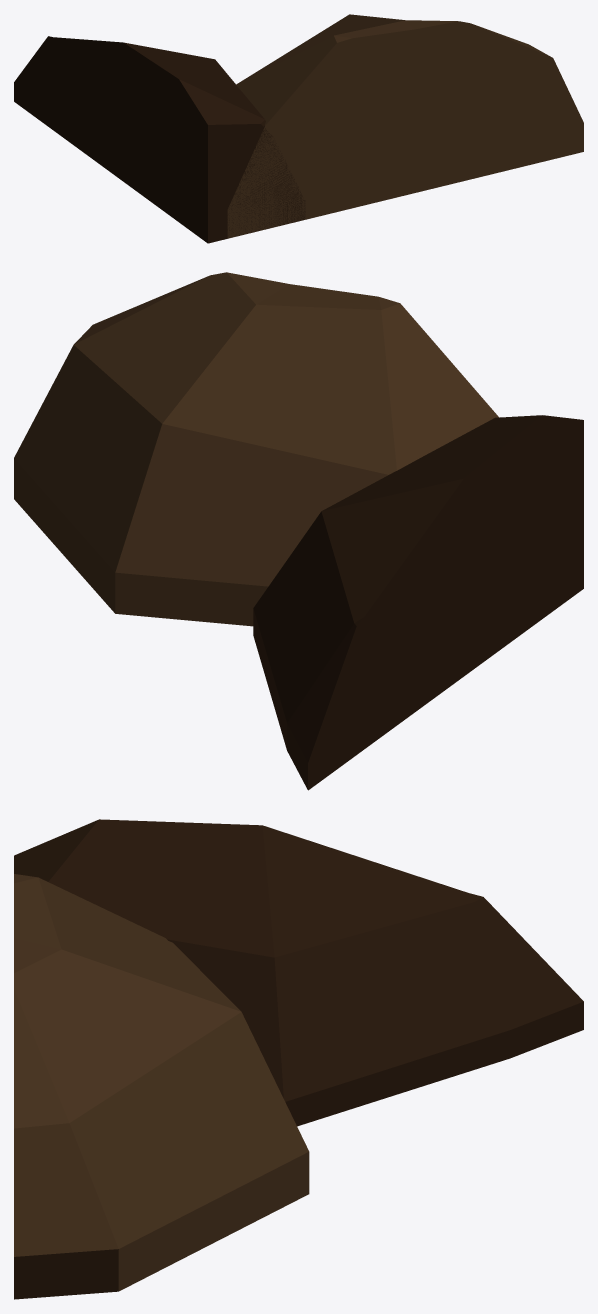
File: newshr-165.glb
The picture shows the model from 3 angles, top to bottom: view 1: azimuth 30°, elevation 25°; view 2: azimuth 150°, elevation 25°; view 3: azimuth 270°, elevation 25°; orthographic projection. The views are drawn at different scales.
Visible parts, largest first — view 1: newshr-165; view 2: newshr-165; view 3: newshr-165.
Part boxes in pixels (x1=…): newshr-165: x1=14, y1=14, x2=583, y2=243; newshr-165: x1=14, y1=272, x2=583, y2=790; newshr-165: x1=14, y1=819, x2=583, y2=1299.
Bounding box in the file's own units: 0.8964 × 0.3874 × 0.8008.
